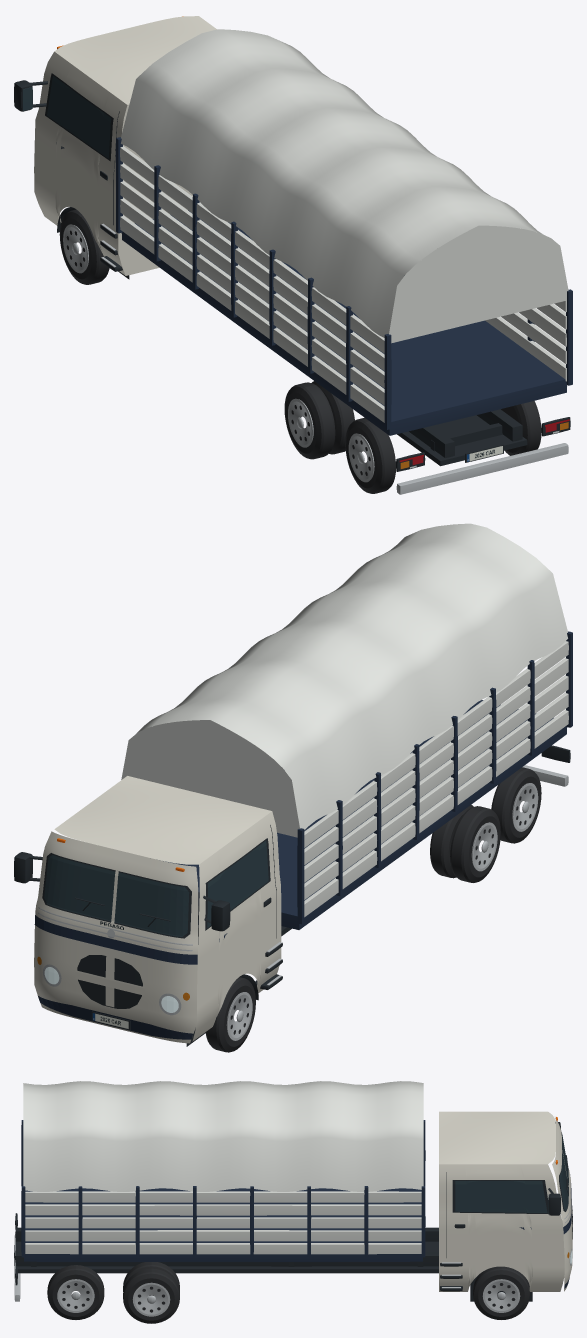
Rendered from Entrega_24_LOD0.glb.
3 views of the same model, one above another, from view 1: azimuth 30°, elevation 25°; view 2: azimuth 150°, elevation 25°; view 3: azimuth 270°, elevation 25° (orthographic). The views are drawn at different scales.
Visible parts, largest first — view 1: Body, Wheel_2L, Wheel_3L, Glass, Wheel_FL, Wheel_3R; view 2: Body, Glass, Wheel_2L, Wheel_3L, Wheel_FL; view 3: Body, Glass, Wheel_2R, Wheel_3R, Wheel_FR.
Part boxes in pixels (<box>): Body: <box>14,16,572,494</box>; Wheel_2L: <box>284,381,354,459</box>; Wheel_3L: <box>345,417,395,493</box>; Glass: <box>47,76,111,158</box>; Wheel_FL: <box>59,209,109,284</box>; Wheel_3R: <box>501,401,541,455</box>; Body: <box>14,523,572,1046</box>; Glass: <box>44,841,268,936</box>; Wheel_2L: <box>430,804,500,882</box>; Wheel_3L: <box>491,767,541,843</box>; Wheel_FL: <box>205,977,255,1052</box>; Body: <box>14,1081,572,1301</box>; Glass: <box>455,1132,568,1212</box>; Wheel_2R: <box>123,1262,179,1323</box>; Wheel_3R: <box>47,1265,104,1319</box>; Wheel_FR: <box>473,1266,529,1319</box>.
Size of the model in its own units: 2.92 by 3.63 by 9.02.
16 materials, 2 textured.
